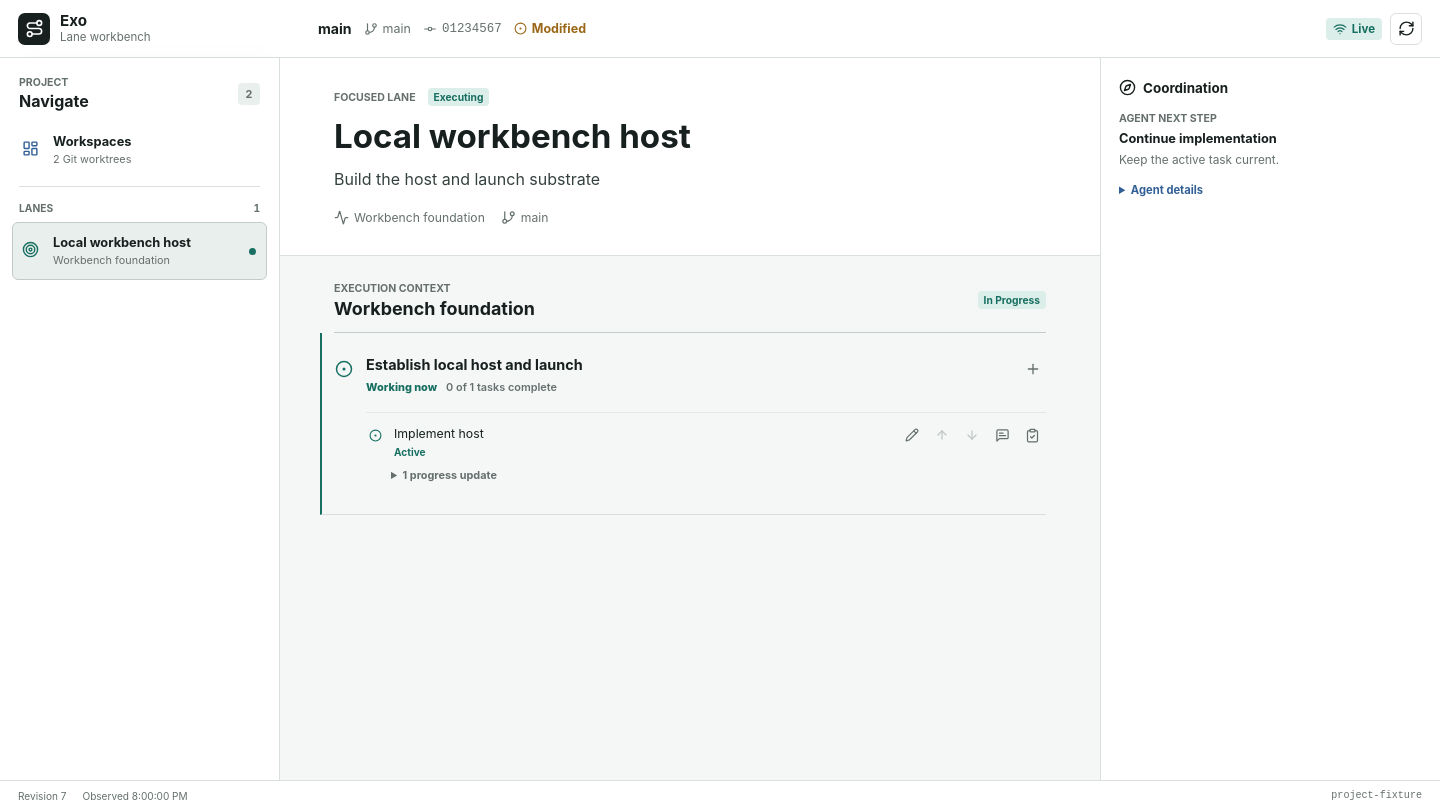
cockpit page › retains the cockpit and requests one reload after a host snapshot upgrade
Expected: the heading "Local workbench host" is shown, 334,116 -> 691,156
Click the button named "Refresh workbench". click: [1406, 28]
box: 1390,12 -> 1422,44
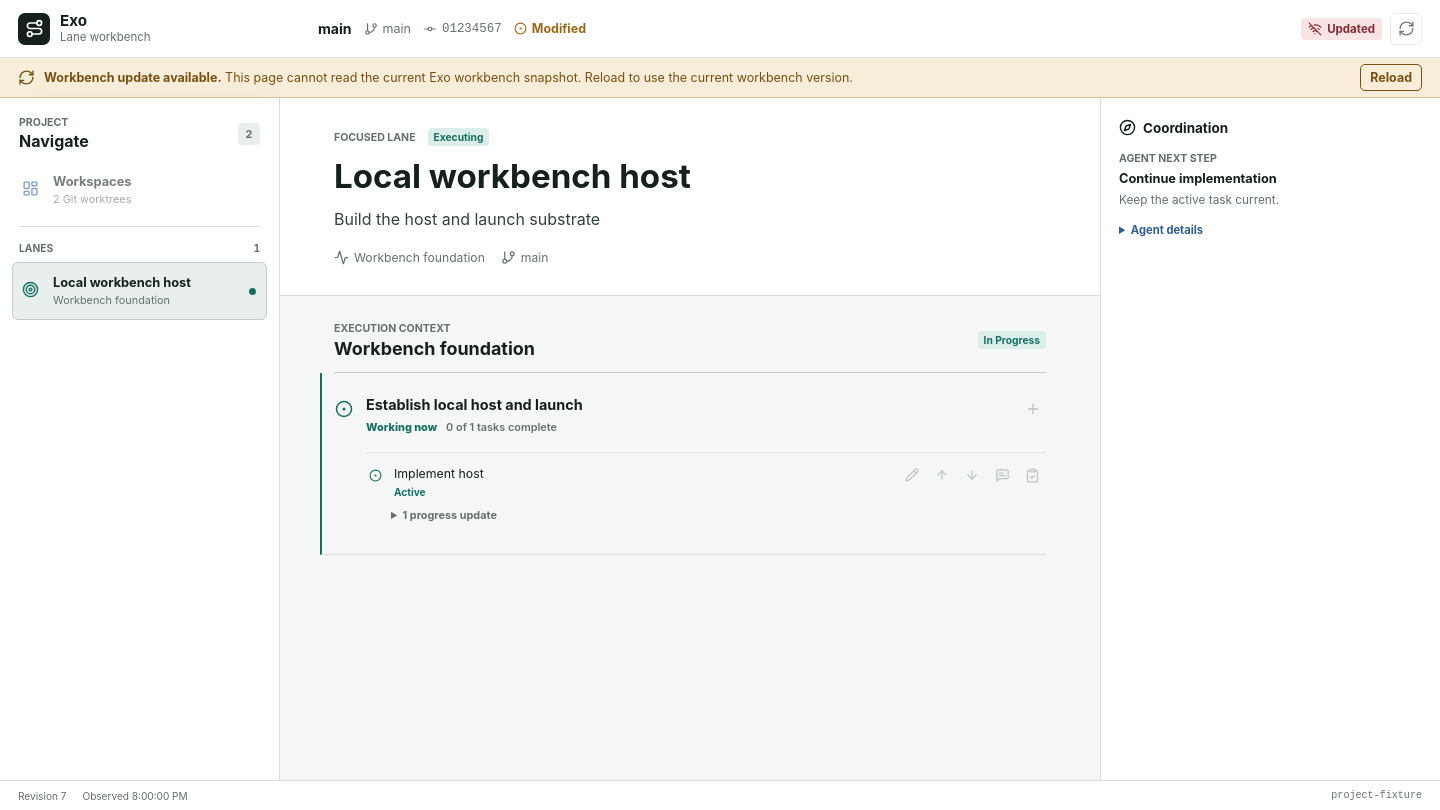
Result: the text "Workbench update available." is shown at 44,70 -> 222,85
Result: the text "Updated" is shown at 1301,18 -> 1382,40
Result: the button "Reload" is shown at 1360,64 -> 1422,91
